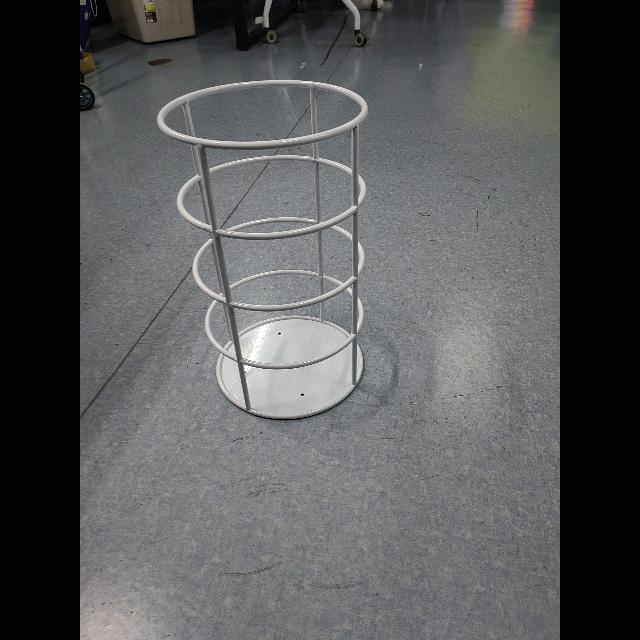S: (152, 76, 376, 420)
